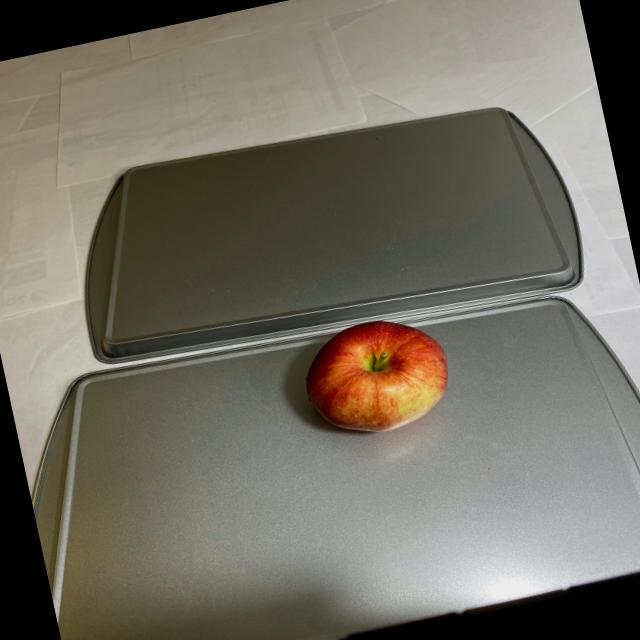apple: (290, 308, 460, 446)
